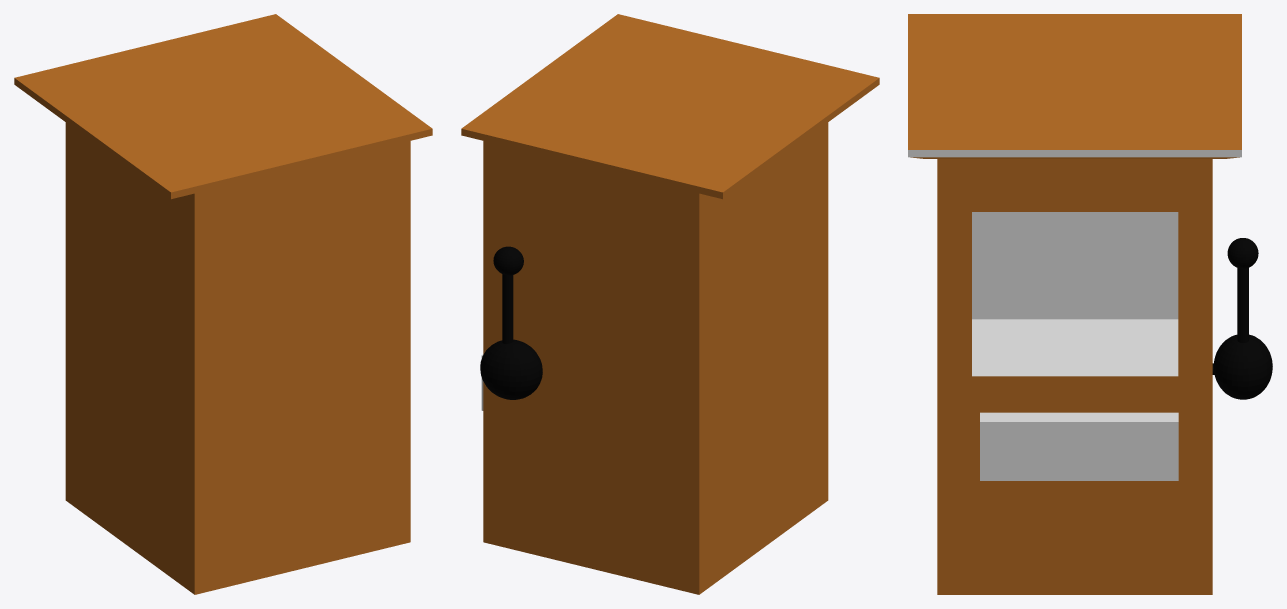
The model's file is Slot.fbx.
The picture shows the model from 3 angles, left to right: view 1: azimuth 30°, elevation 25°; view 2: azimuth 150°, elevation 25°; view 3: azimuth 270°, elevation 25°; orthographic projection. The views are drawn at different scales.
Visible parts, largest first — view 1: Cube; view 2: Cube; view 3: Cube.
Part boxes in pixels (x1,y1,x2,y2): Cube: [14, 14, 432, 594]; Cube: [461, 14, 879, 594]; Cube: [908, 14, 1272, 594].
Bounding box in the file's own units: 124 × 185 × 136.
